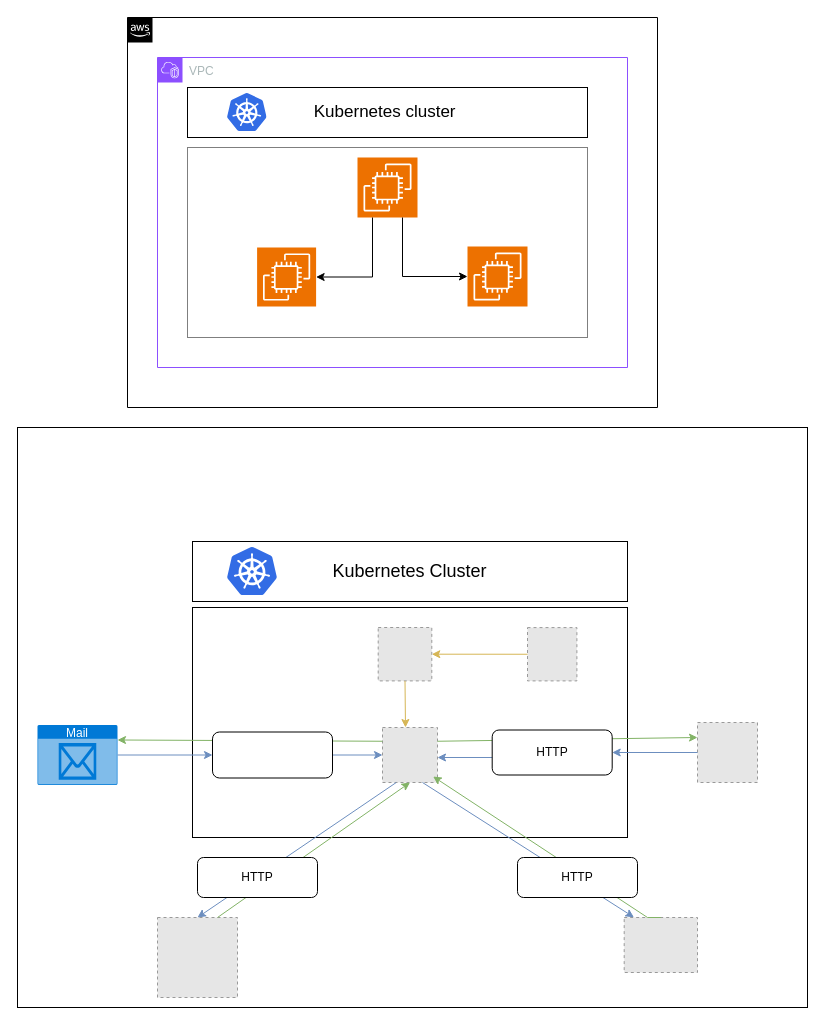
This 825x1025 diagram has some shape labels left out. Grey dashed boxes stand in for pictures. The box of each missing label's shape, as (x1, y1, x2, y2) in pixels:
AWS Cloud: (126, 16, 658, 408)
SMTP: (212, 731, 332, 778)
